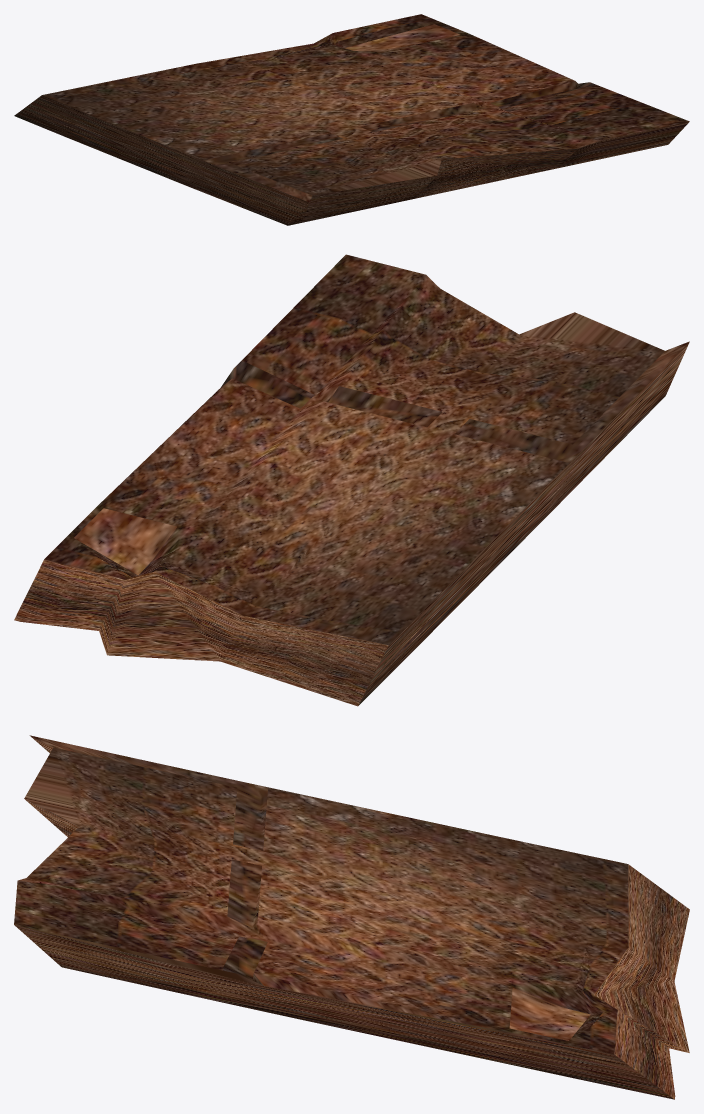
The model's file is HellWallPlate.fbx.
3 views of the same model, one above another, from view 1: azimuth 30°, elevation 25°; view 2: azimuth 150°, elevation 25°; view 3: azimuth 270°, elevation 25° (orthographic). The views are drawn at different scales.
Parts seen in each view (by area): view 1: pCube17; view 2: pCube17; view 3: pCube17.
Boxes of the visible parts, x1,y1,x2,y2 form: pCube17: (14,14,689,225); pCube17: (14,254,689,706); pCube17: (14,735,689,1099).
Bounding box in the file's own units: 9.37 × 3.76 × 13.43.
Materials: 1 (1 with a texture image).
